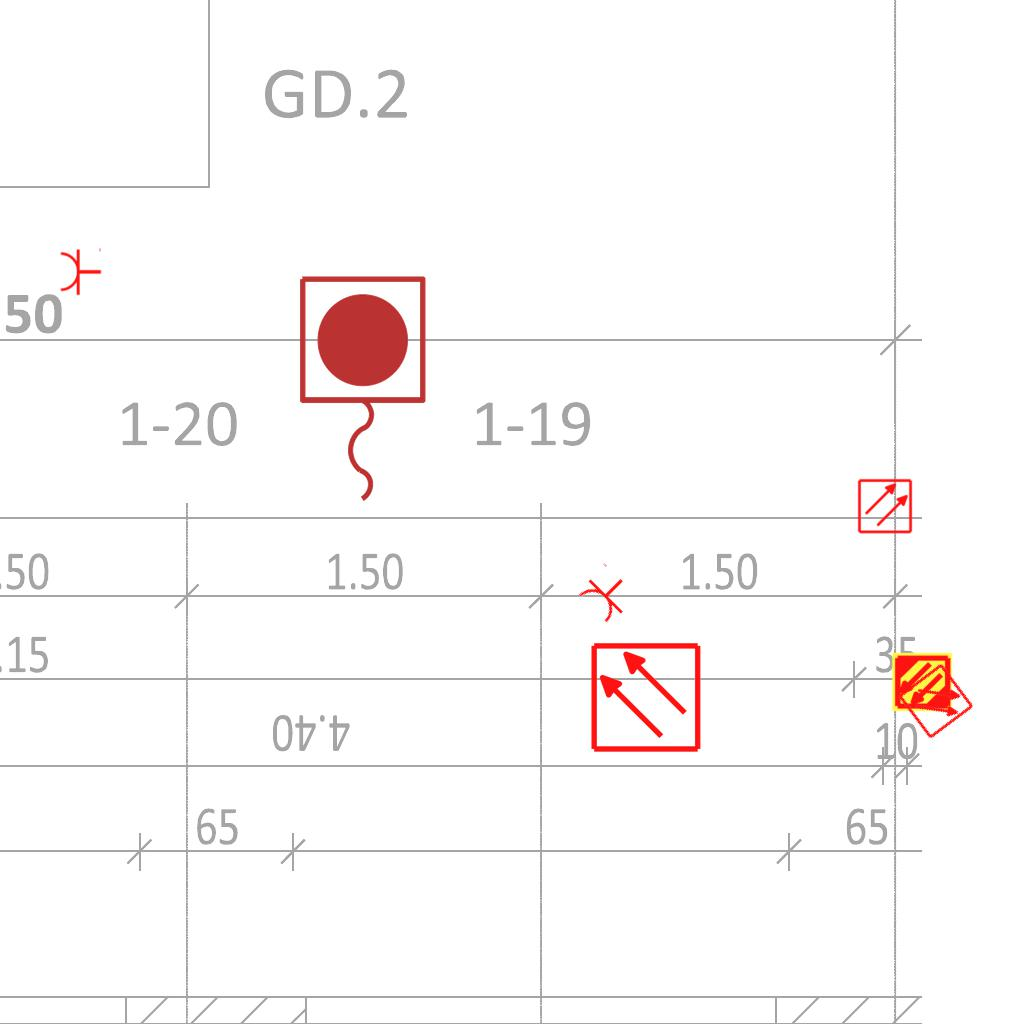ASR_Ansaugrauchmelder: (891, 651, 953, 713)
RMO_Rauchmelder_optischer: (589, 641, 702, 754), (896, 661, 976, 741), (857, 478, 913, 534)
Schukosteckdose_einfach: (573, 561, 640, 627), (59, 246, 102, 296)
Zugtaster: (289, 268, 433, 512)
